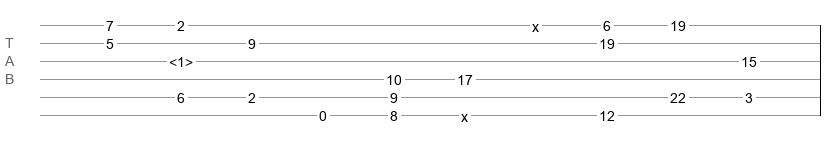0: (319, 108, 327, 118)
10: (386, 72, 402, 82)
12: (599, 108, 615, 118)
15: (741, 54, 757, 64)
17: (457, 72, 473, 82)
19: (599, 36, 615, 46), (670, 18, 686, 28)
2: (177, 18, 185, 28), (248, 90, 256, 100)
22: (670, 90, 686, 100)
3: (745, 90, 753, 100)
5: (106, 36, 114, 46)
6: (177, 90, 185, 100), (603, 18, 611, 28)
7: (106, 18, 114, 28)
8: (390, 108, 398, 118)
9: (248, 36, 256, 46), (390, 90, 398, 100)
harmonic: (169, 54, 193, 64)
x: (461, 109, 468, 117), (532, 19, 539, 27)
